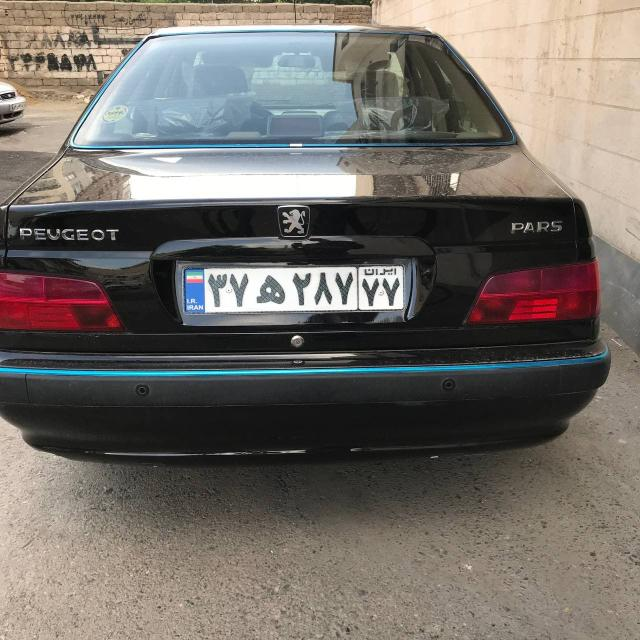Plates: (183, 263, 405, 313)
